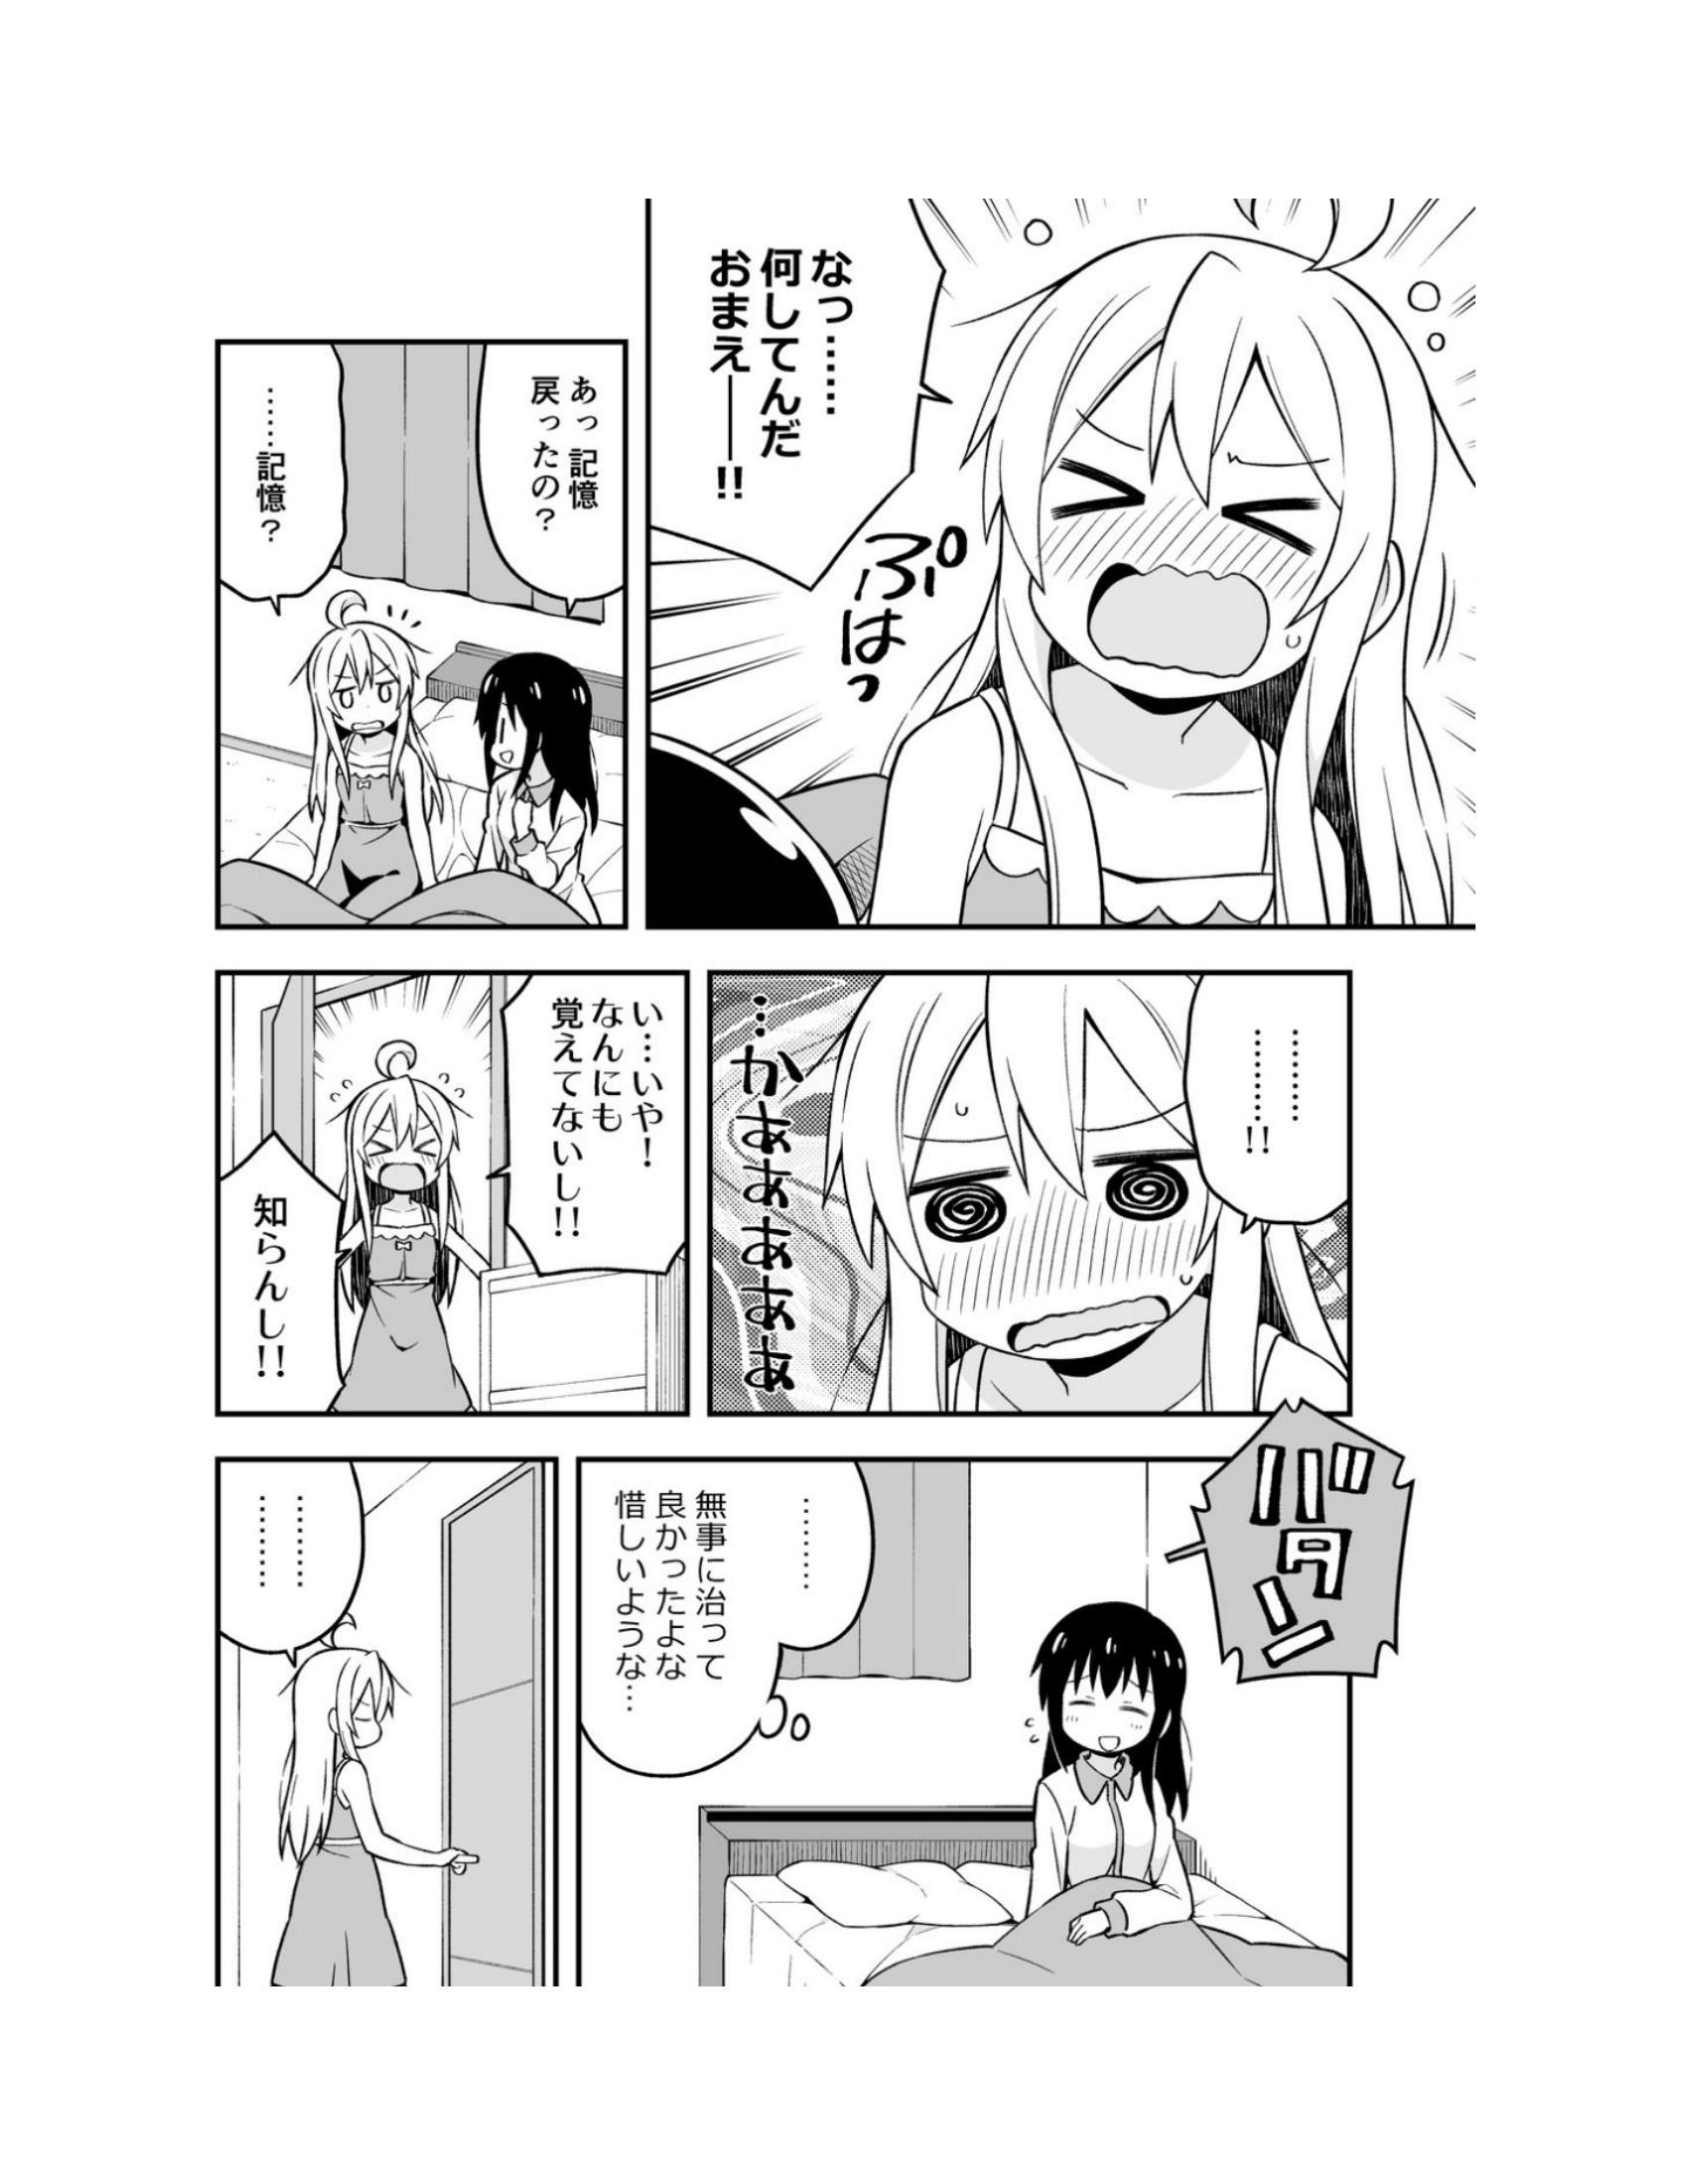a: (557, 1431, 924, 1780), (654, 175, 931, 619), (1190, 1370, 1422, 1764), (500, 970, 706, 1308), (215, 1117, 402, 1450), (470, 330, 651, 633), (1174, 952, 1358, 1236), (207, 356, 388, 640)
